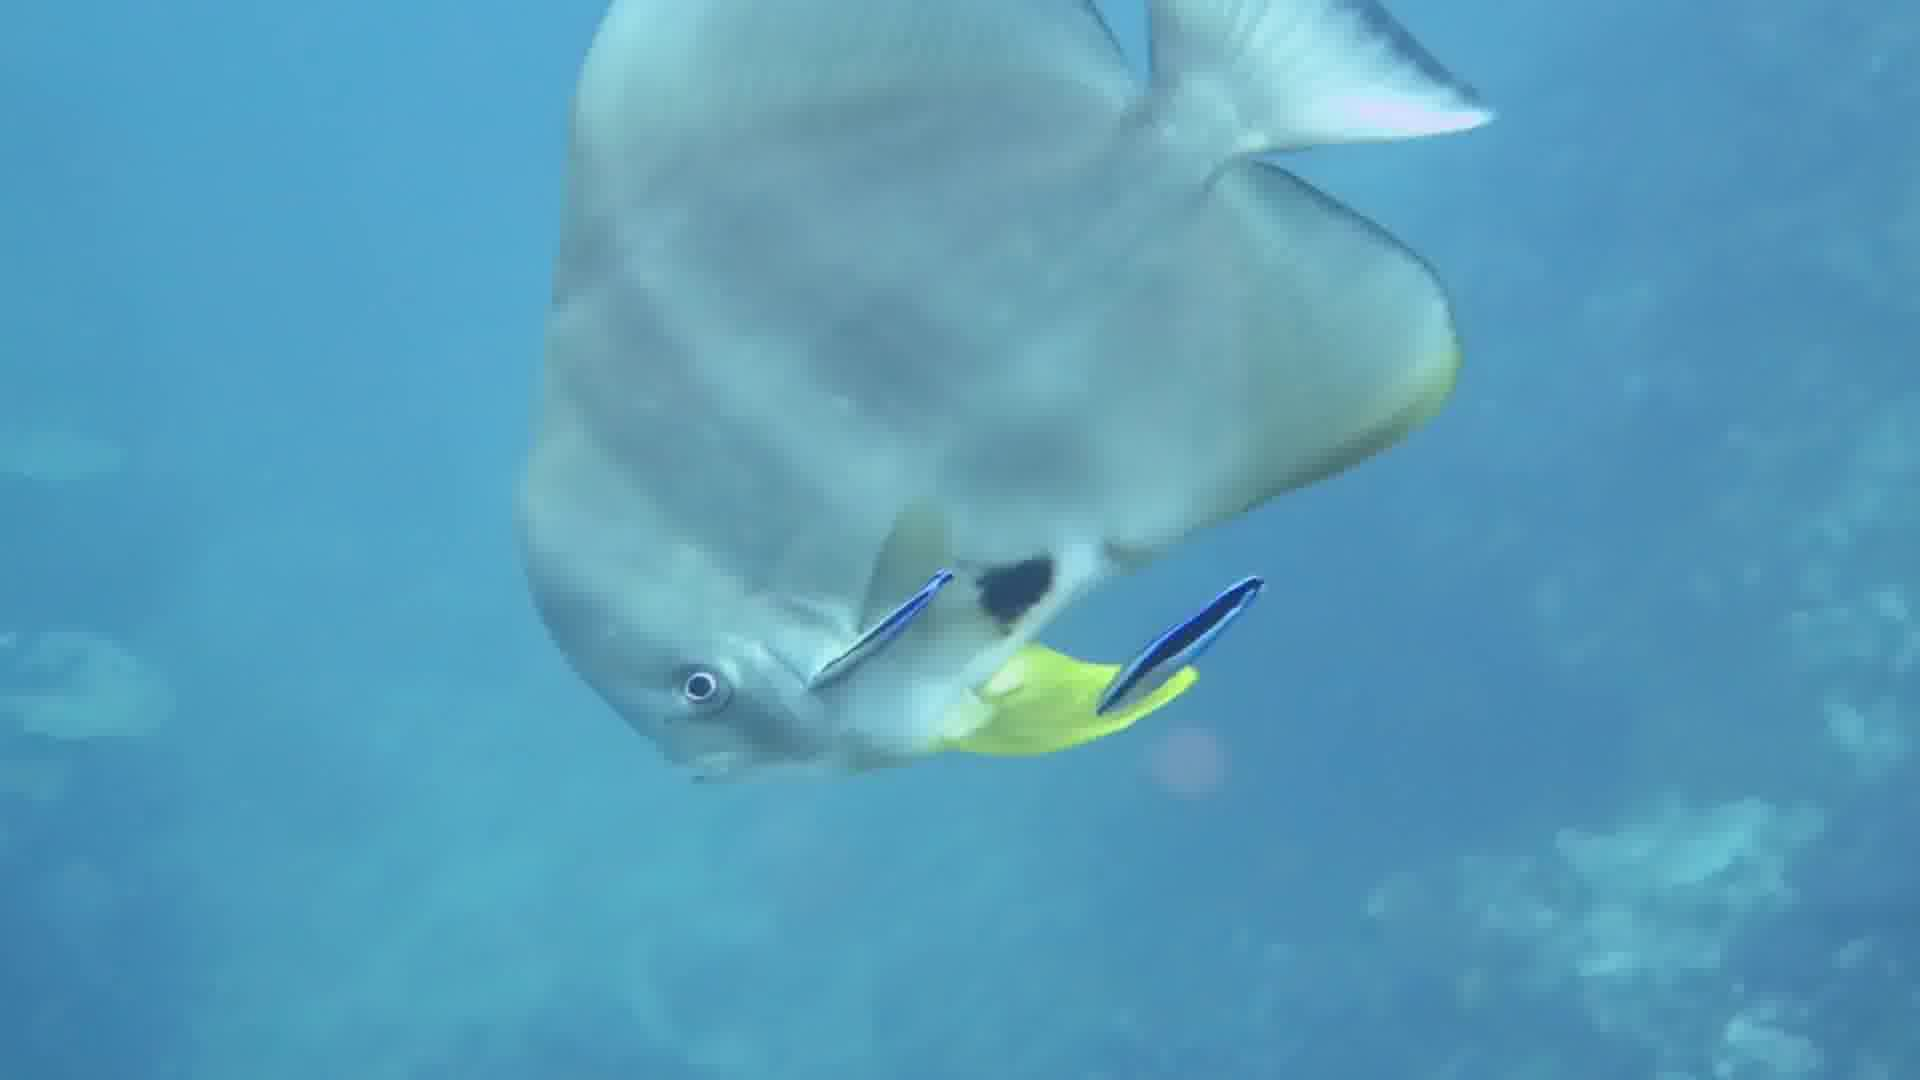Platax teira: (479, 1, 1497, 840)
